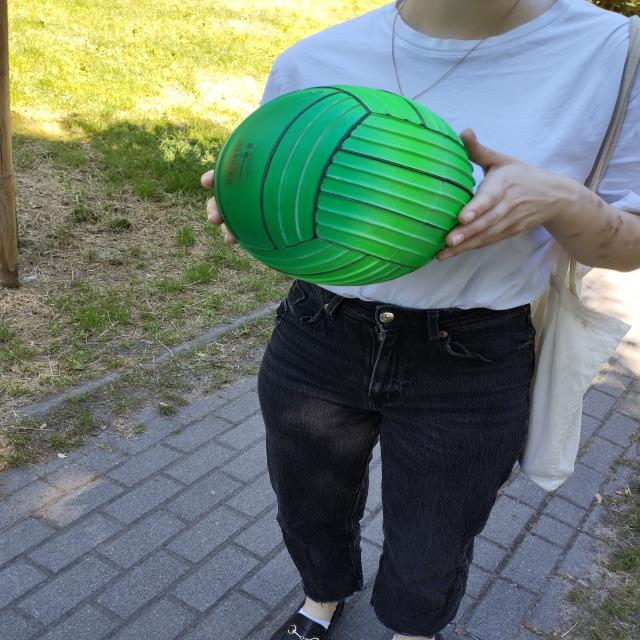zielona: (213, 85, 474, 287)
